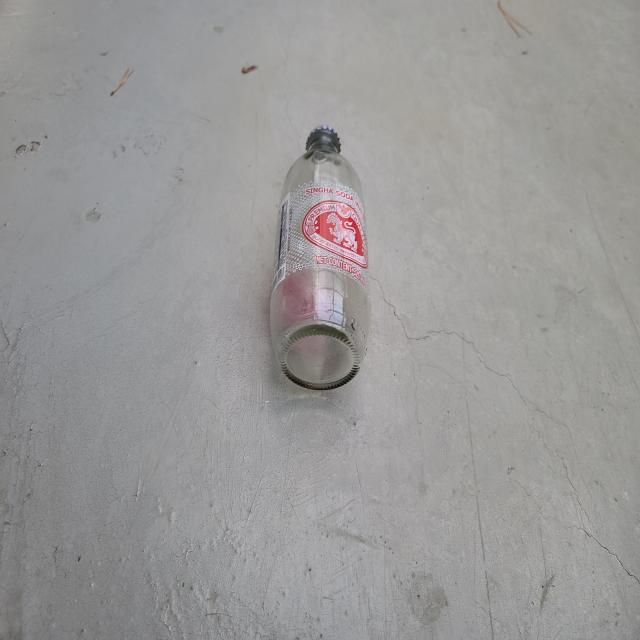glass: (270, 127, 371, 390)
